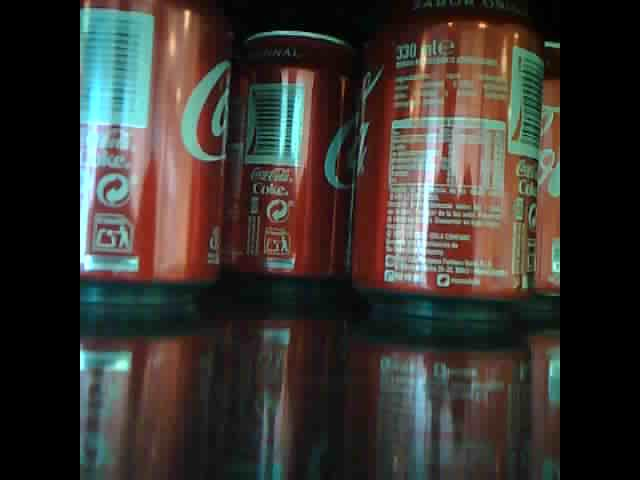coca cola: (348, 4, 542, 311), (79, 4, 232, 306), (217, 31, 351, 285), (528, 37, 561, 306)
